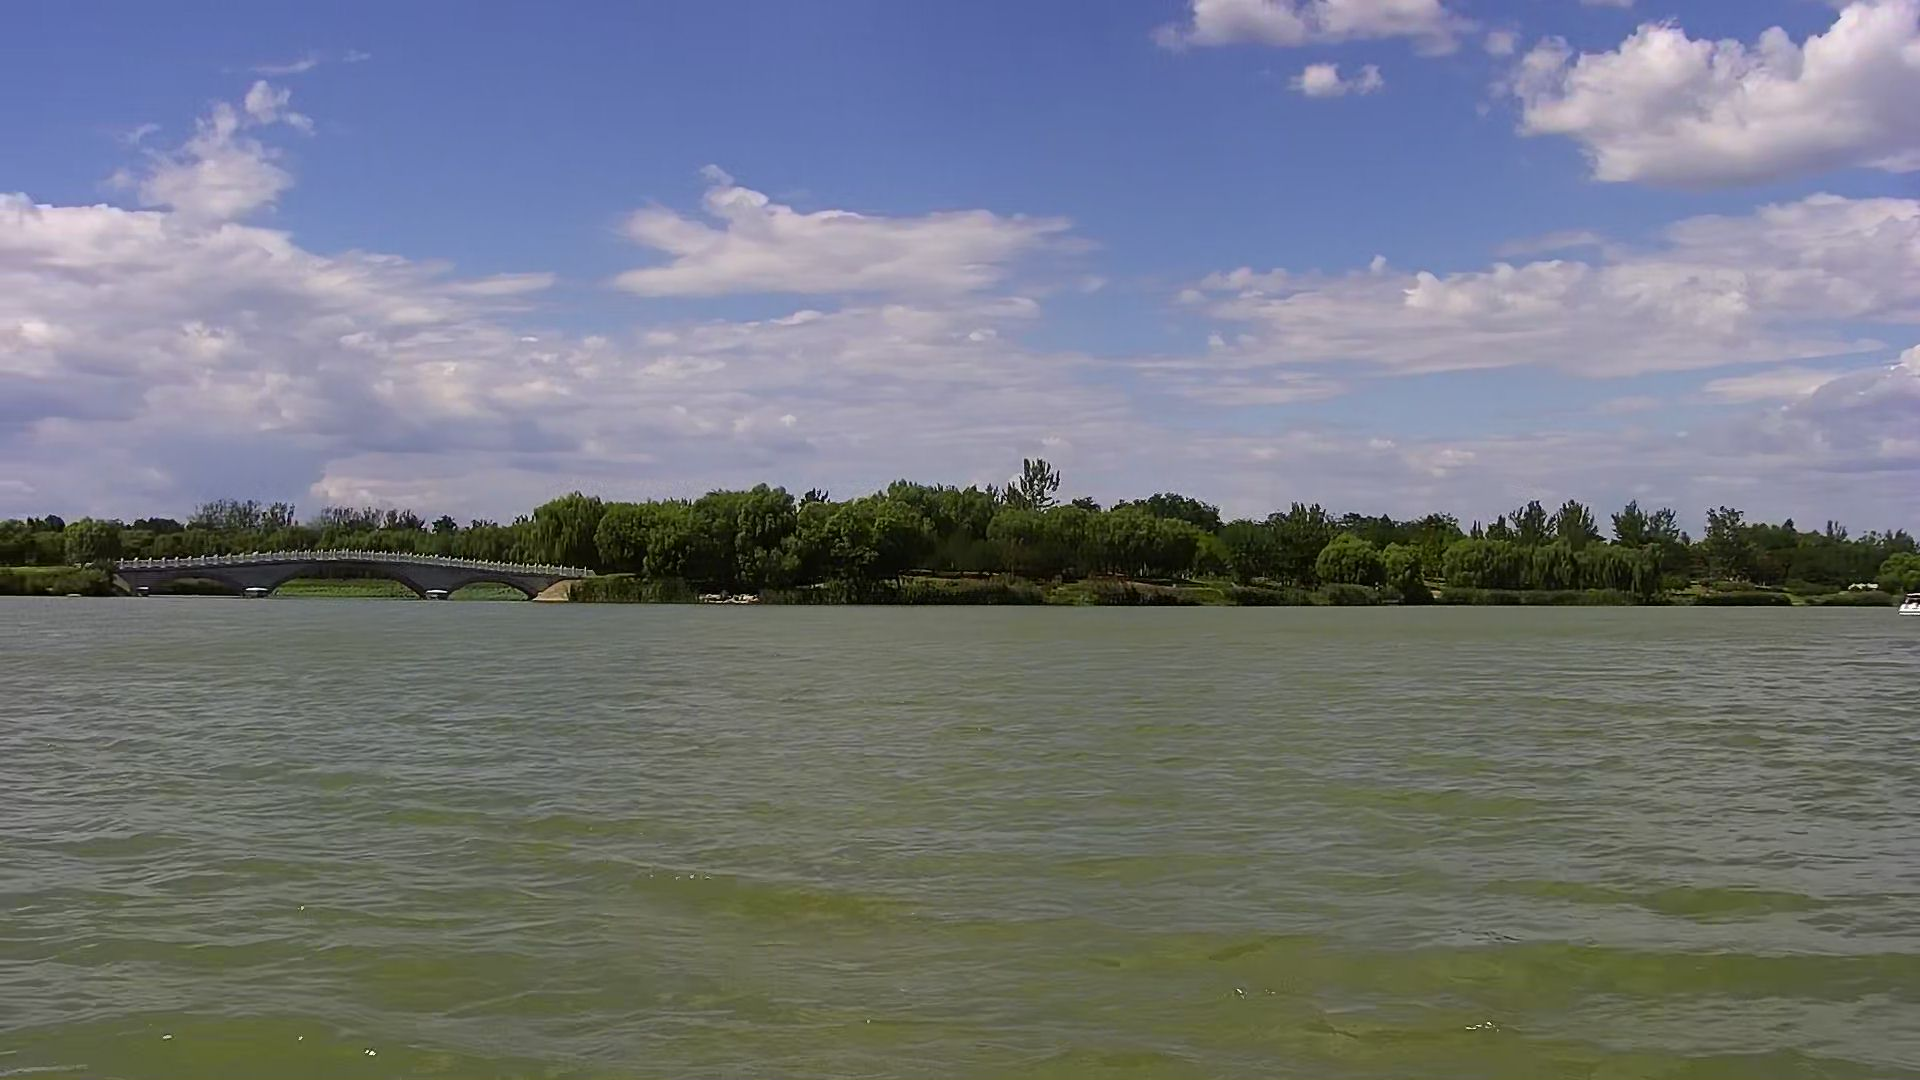bridge: (111, 547, 607, 607)
